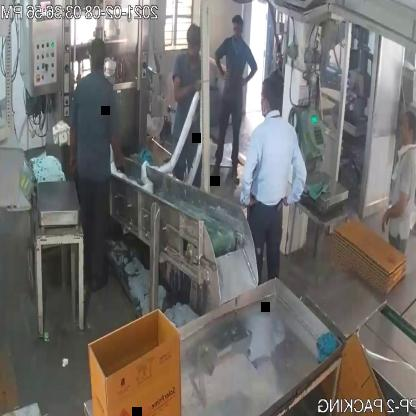no_glove: (374, 173, 411, 239), (282, 144, 314, 212), (61, 99, 80, 184), (238, 132, 257, 207), (171, 68, 203, 101), (236, 52, 258, 91), (209, 42, 230, 79)
